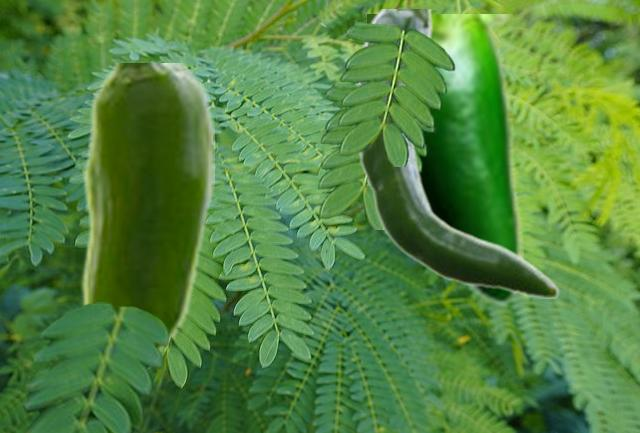green_chili: (356, 9, 559, 297), (367, 14, 522, 306), (75, 63, 213, 373)
